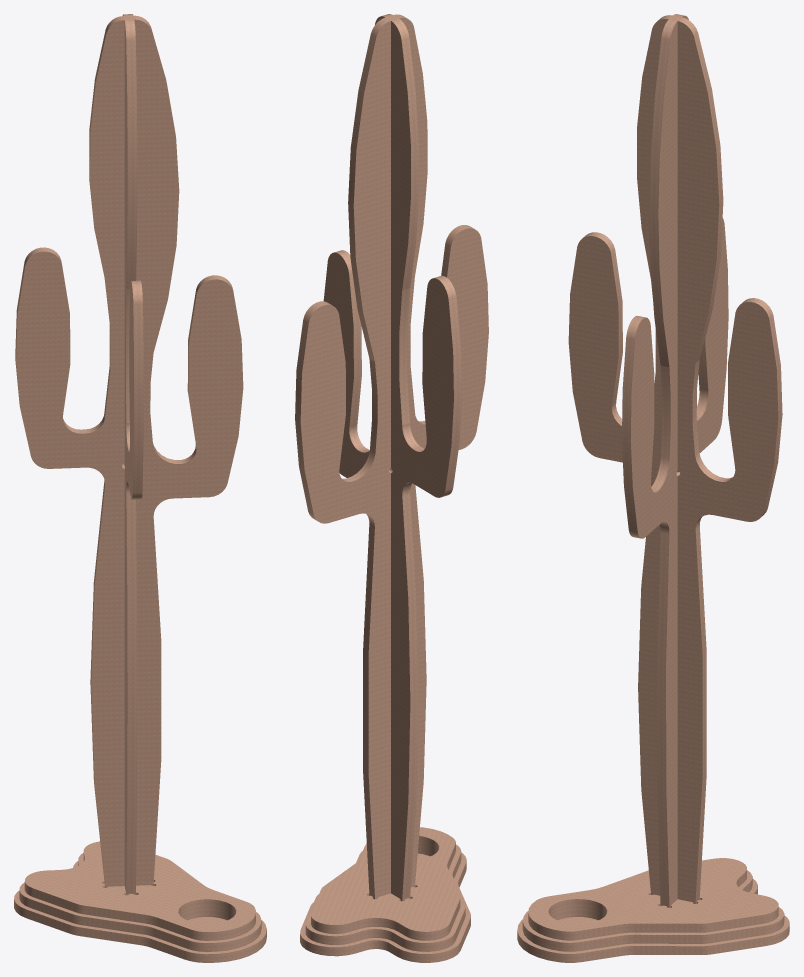
File: cacti_a_v1.gltf
The picture shows the model from 3 angles, left to right: view 1: azimuth 30°, elevation 25°; view 2: azimuth 150°, elevation 25°; view 3: azimuth 270°, elevation 25°; orthographic projection.
Parts seen in each view (by area): view 1: CACTI ASSEMBLY v3; view 2: CACTI ASSEMBLY v3; view 3: CACTI ASSEMBLY v3.
Part boxes in pixels (box(x1,y1,x2,y2)): CACTI ASSEMBLY v3: box(14, 14, 266, 962); CACTI ASSEMBLY v3: box(295, 14, 488, 962); CACTI ASSEMBLY v3: box(517, 14, 789, 962).
Size of the model in its own units: 0.392 by 1.83 by 0.4991.
1 material, 1 textured.
